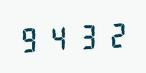four: (45, 21, 71, 53)
nine: (18, 22, 44, 54)
three: (72, 20, 98, 51)
two: (99, 18, 125, 50)
